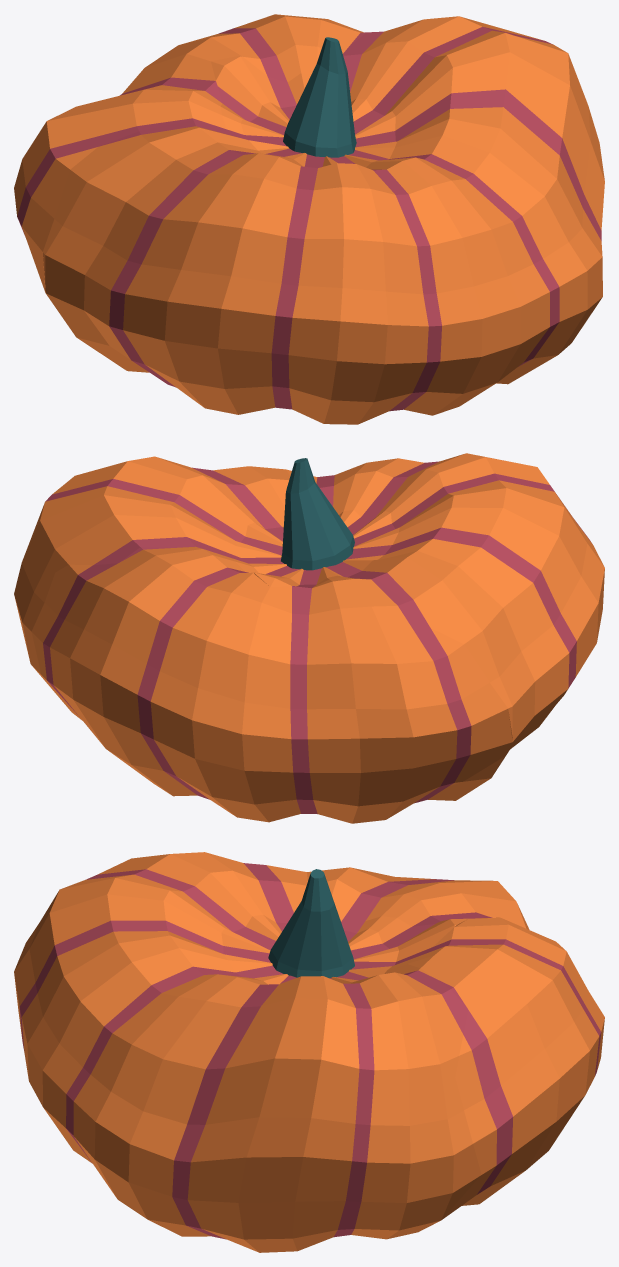
The model's file is CrackedPoblano.fbx.
3 views of the same model, one above another, from view 1: azimuth 30°, elevation 25°; view 2: azimuth 150°, elevation 25°; view 3: azimuth 270°, elevation 25° (orthographic). The views are drawn at different scales.
Visible parts, largest first — view 1: Pumpkin.161, Pumpkin.002; view 2: Pumpkin.002, Pumpkin.161; view 3: Pumpkin.161, Pumpkin.002.
Part boxes in pixels (x1,y1,x2,y2): Pumpkin.161: [43, 16, 604, 424]; Pumpkin.002: [14, 14, 366, 292]; Pumpkin.002: [31, 547, 512, 823]; Pumpkin.161: [14, 453, 604, 820]; Pumpkin.161: [14, 852, 481, 1252]; Pumpkin.002: [365, 877, 604, 1219].
Size of the model in its own units: 194 by 113 by 193.
